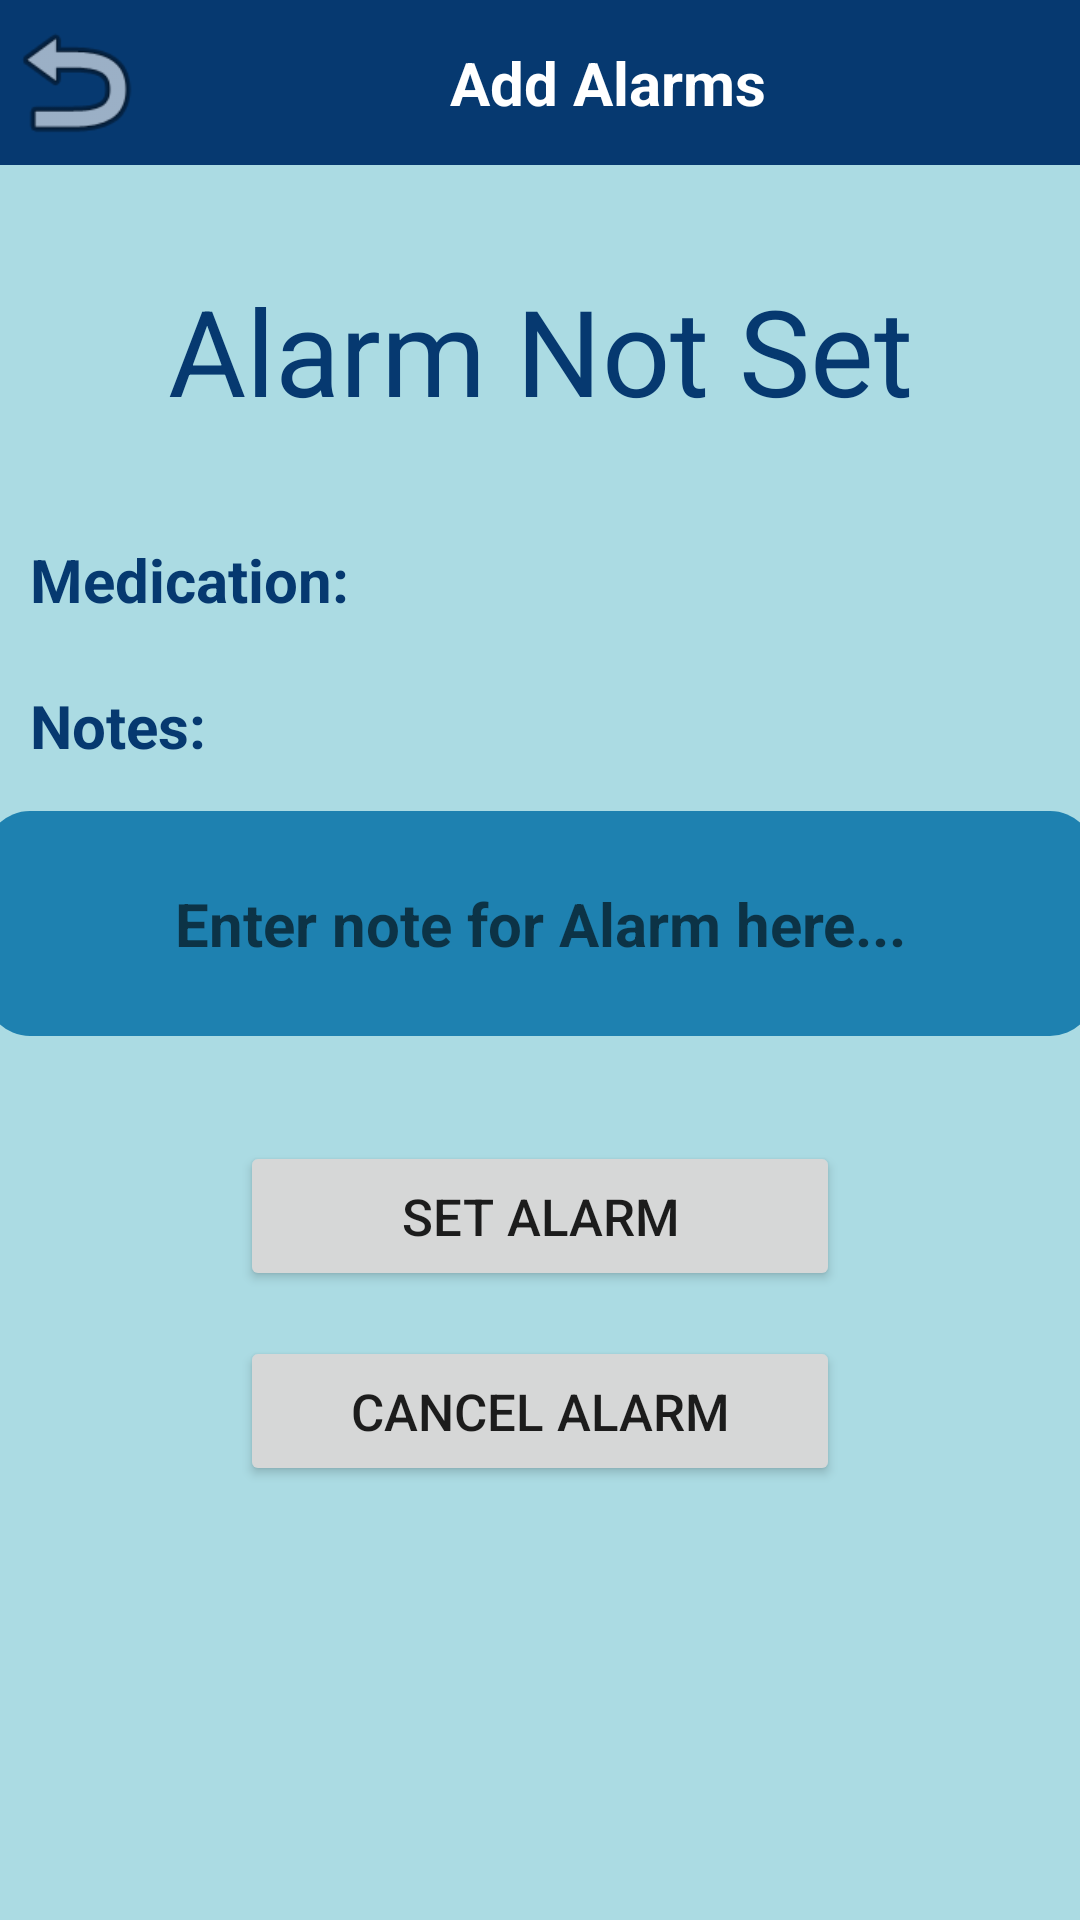

Screen size 1080×1920. Icon name, then its box in pixels as box=[x1, y1, x2, y2]:
revert: box=[23, 35, 130, 131]
